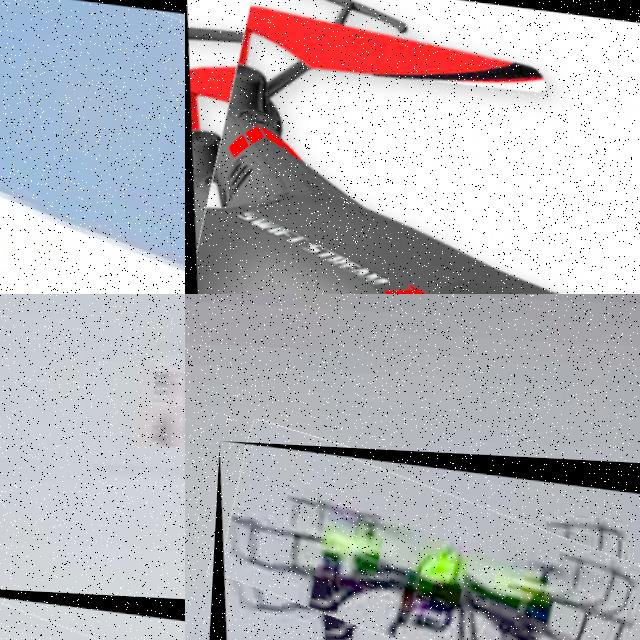0: (209, 440, 640, 640), (0, 583, 185, 640)
drone: (185, 0, 640, 294), (0, 0, 185, 294)
